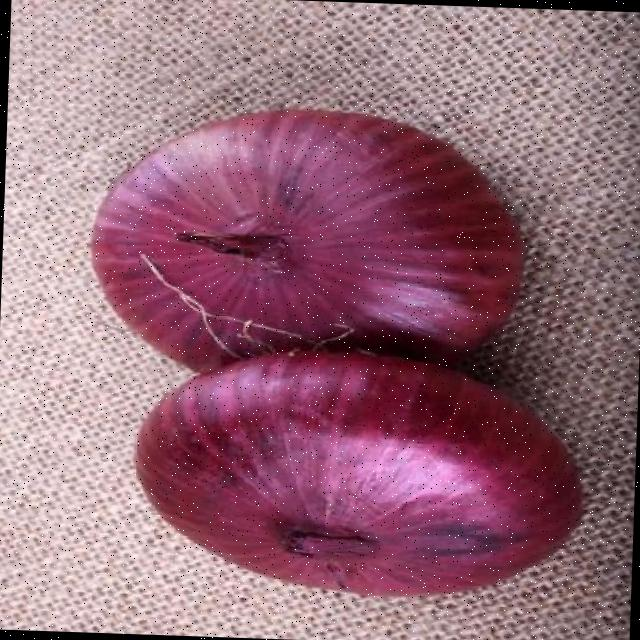Onion: (91, 108, 523, 370), (138, 351, 581, 595)
